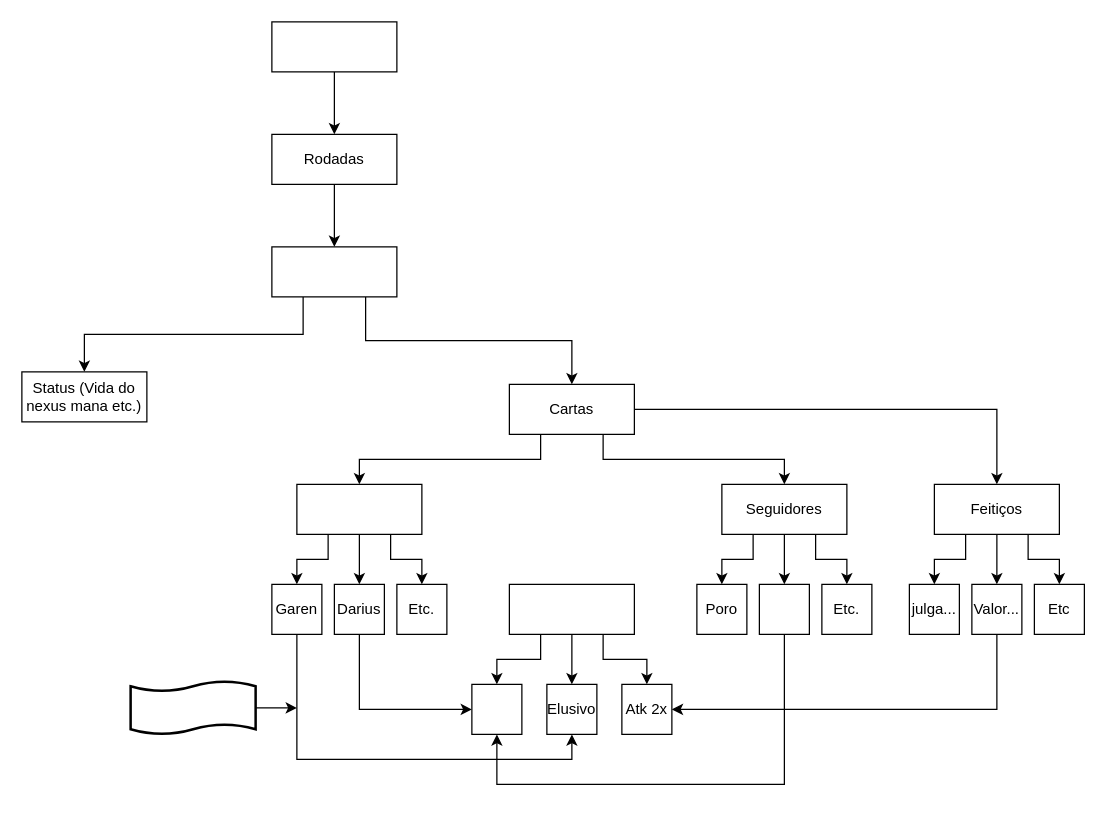
The diagram is 1106 pixels wide and 816 high, and some of its shapes have lost their labels. Here are the shapes that lost their labels. From the top down, the box of each, then its label:
(271, 21, 397, 72): Game
(271, 246, 397, 297): Players
(296, 483, 422, 534): Campeões
(508, 583, 634, 634): Traços
(758, 583, 809, 634): Defen..
(129, 679, 256, 735): Ao evoluir
(471, 683, 522, 734): furia
